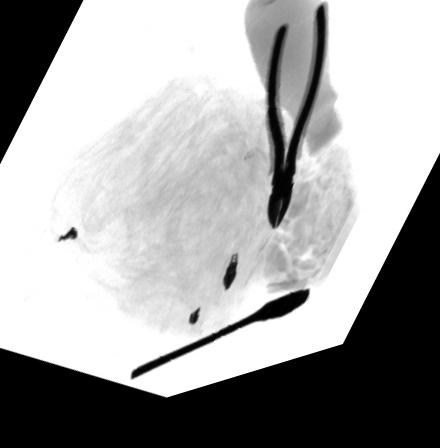Pliers: (261, 20, 332, 250)
Wrench: (126, 304, 309, 391)
